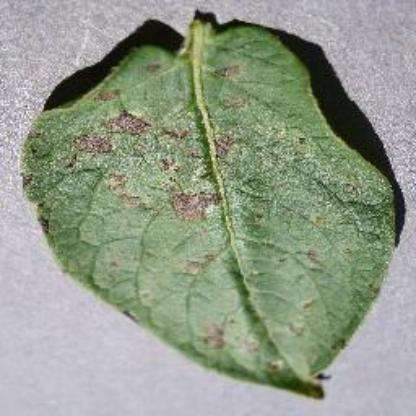Early-Blight: (26, 11, 408, 401)
